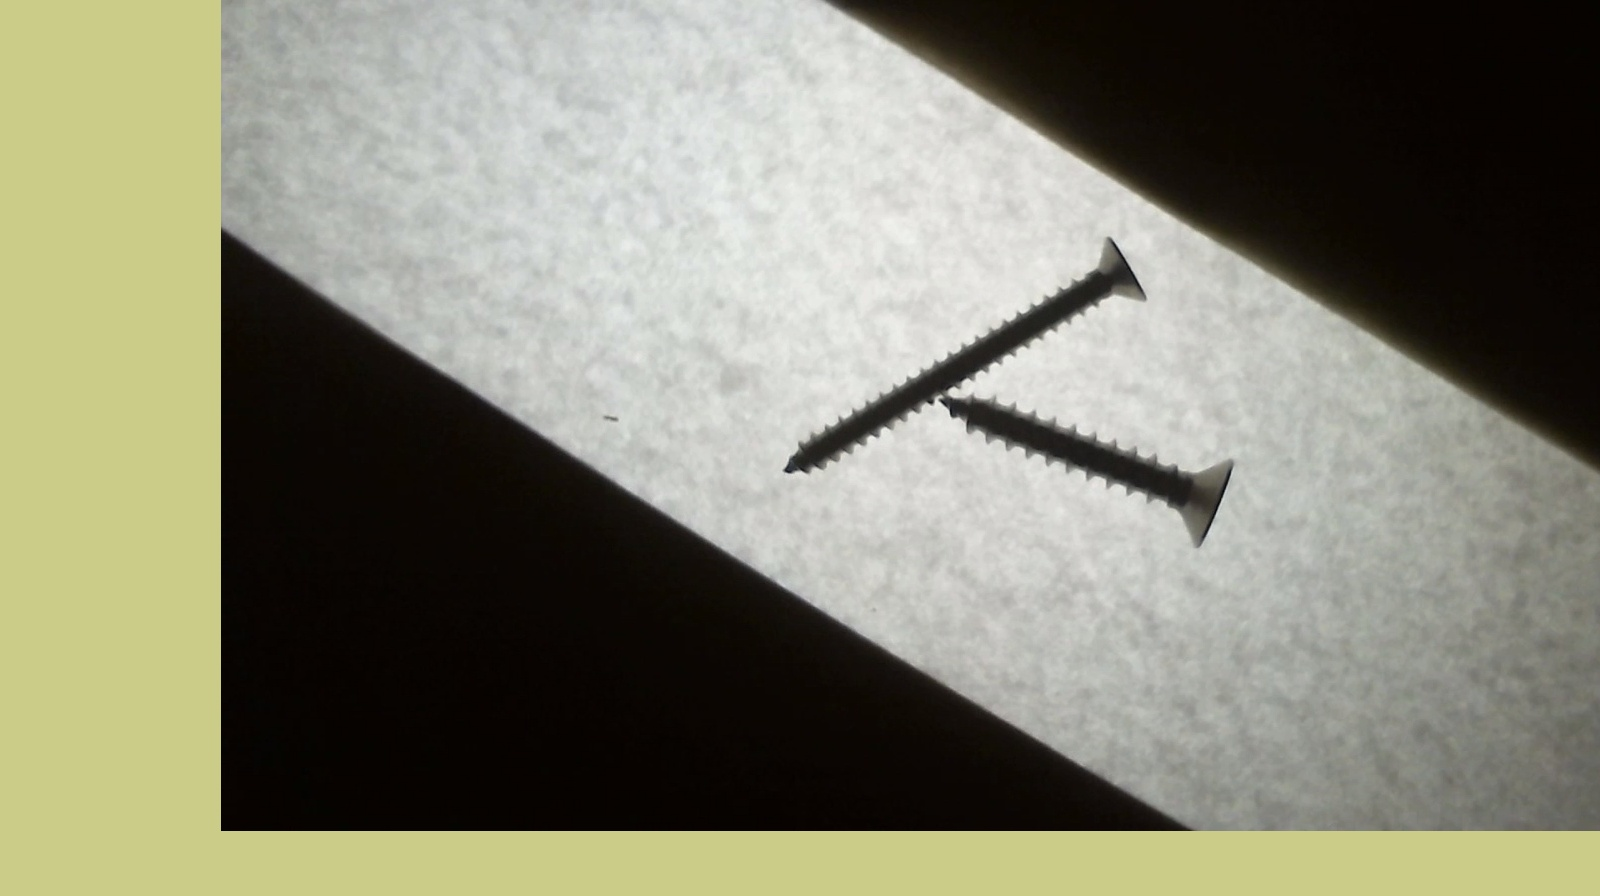S001: (938, 392, 1237, 552)
S002: (782, 237, 1155, 479)
